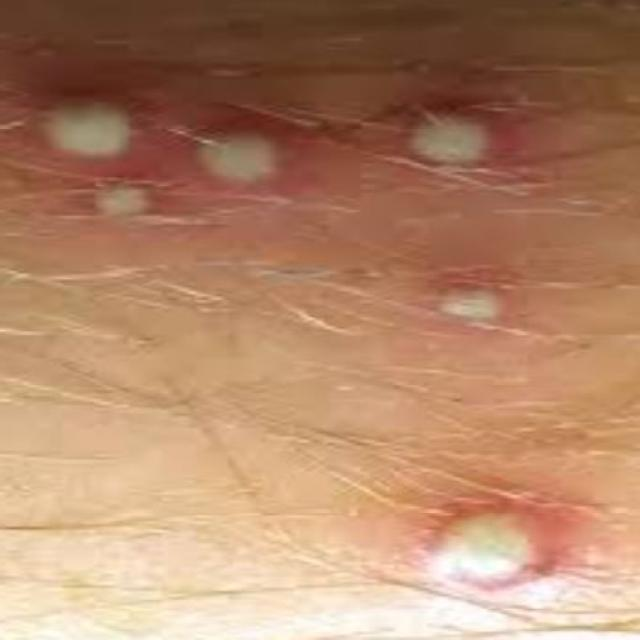pustule: (8, 65, 547, 240), (375, 446, 619, 614), (404, 252, 569, 343)
